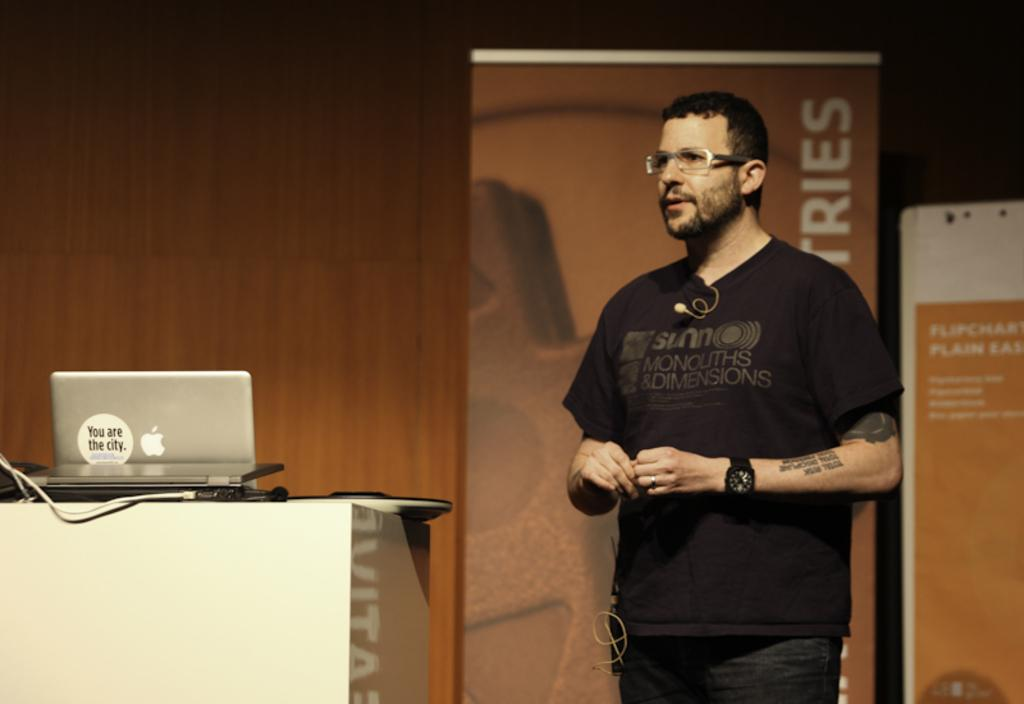Laptop: (50, 371, 260, 488), (26, 460, 289, 504)
